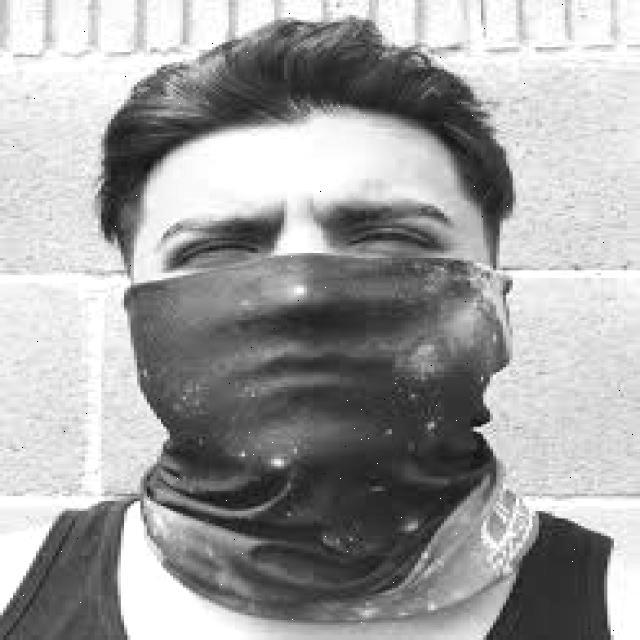fake: (65, 252, 562, 632)
real: (124, 113, 498, 471)
